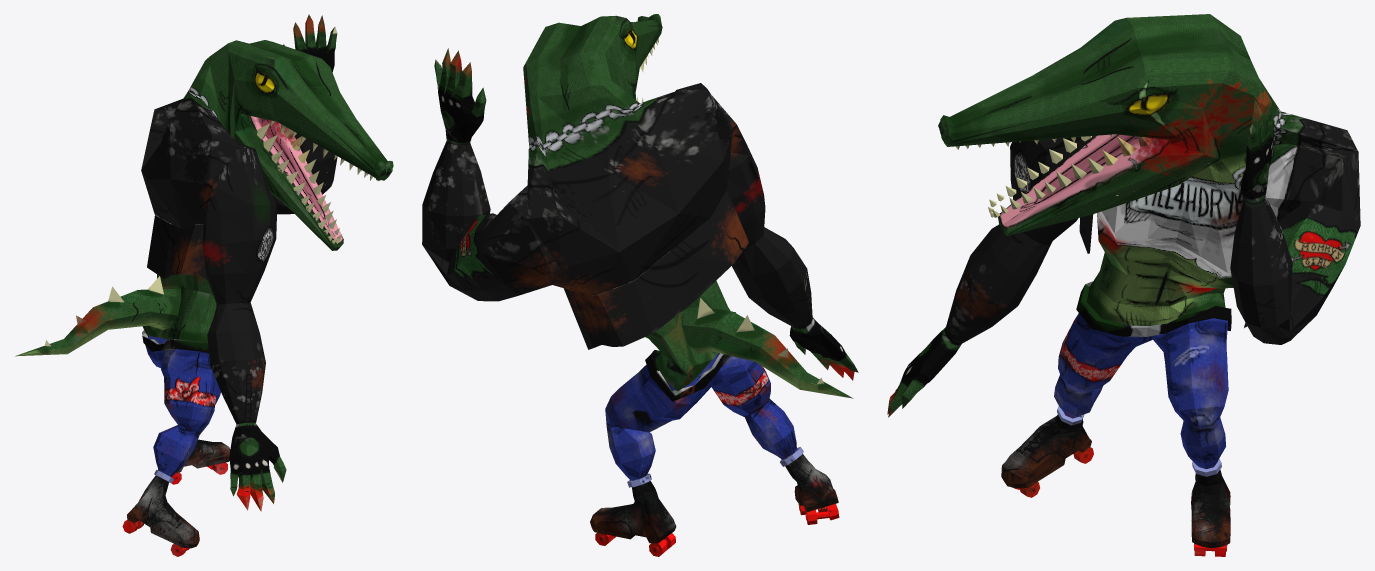
File: cocodrilaBonesSelect_000071.obj
The picture shows the model from 3 angles, left to right: view 1: azimuth 30°, elevation 25°; view 2: azimuth 150°, elevation 25°; view 3: azimuth 270°, elevation 25°; orthographic projection. The views are drawn at different scales.
Parts seen in each view (by area): view 1: Crocodile.002_Cylinder.002; view 2: Crocodile.002_Cylinder.002; view 3: Crocodile.002_Cylinder.002.
Part boxes in pixels (left/top/right/bottom): Crocodile.002_Cylinder.002: left=15, top=14, right=393, bottom=556; Crocodile.002_Cylinder.002: left=422, top=14, right=858, bottom=556; Crocodile.002_Cylinder.002: left=887, top=14, right=1360, bottom=556.
Size of the model in its own units: 5.19 by 6.17 by 4.74.
